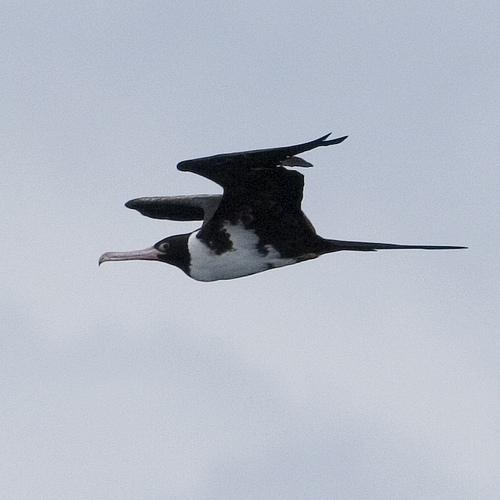bird: (98, 130, 470, 286)
